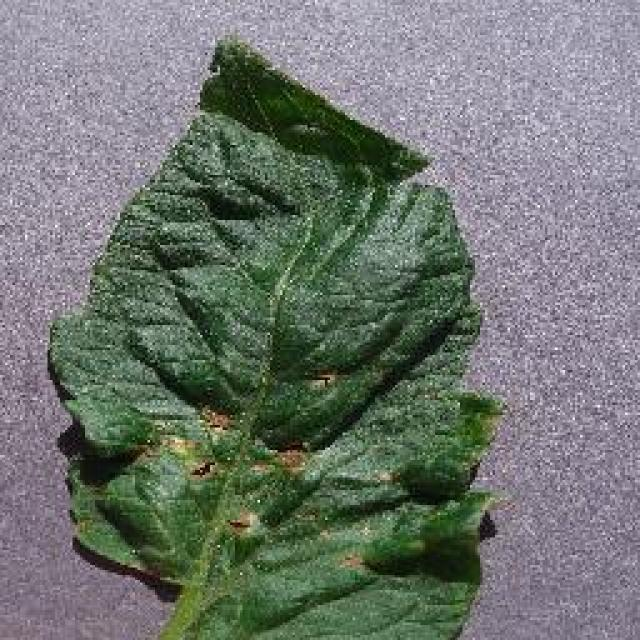Tomato___Target_Spot: (50, 40, 500, 638)
